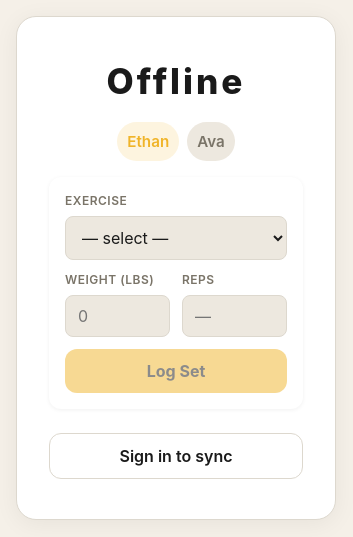
Scenario: OfflineView — form basics › Log Set is enabled when exercise and weight are filled
Step 1. Select "Bench Press" in the dropdown labelled "Exercise" → (176, 238), box [65,216,287,260]
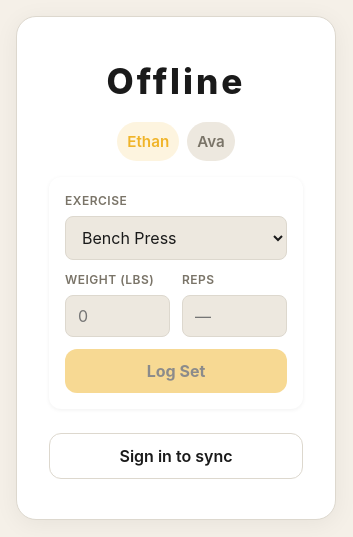
Step 2. Type "135" into the number field labelled "Weight (lbs)" → (118, 316), box [65,295,170,337]
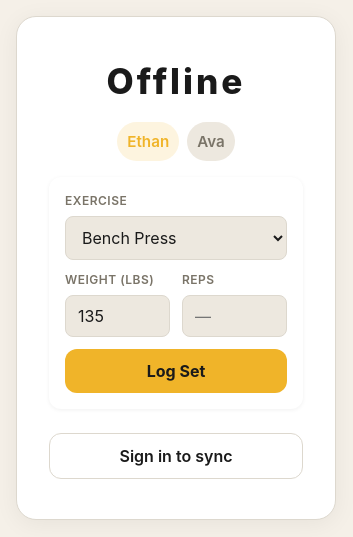
Expected: the button "Log Set" is enabled, [65,349,287,393]
